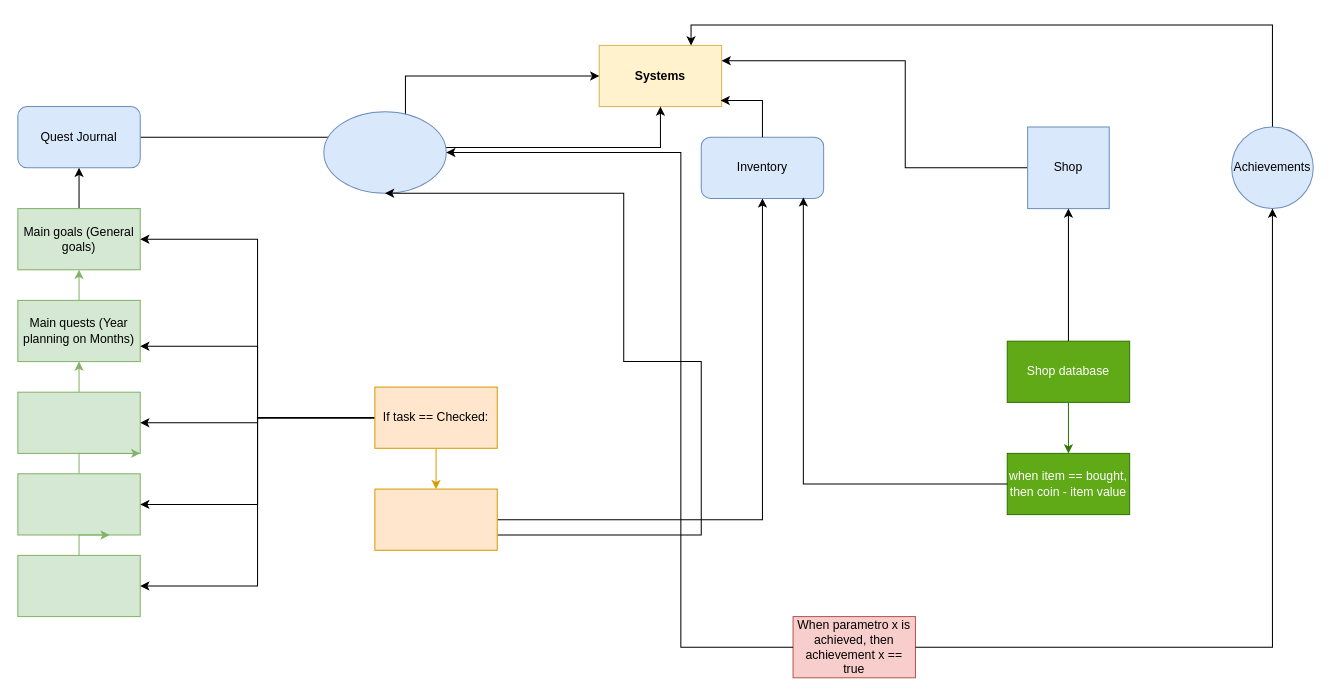
The diagram is 1331 pixels wide and 696 high, and some of its shapes have lost their labels. Each missing label, with the centre of its shape:
Character Profile: pixel 384 152
Day tasks (Day planning on periods of the day): pixel 78 585
Quest objectives and areas (Month planning on weeks): pixel 78 422
Quest tasks (Week planning on 7 days): pixel 78 504
XP == increase x Coins == increase x Skill x == increase x: pixel 435 519
